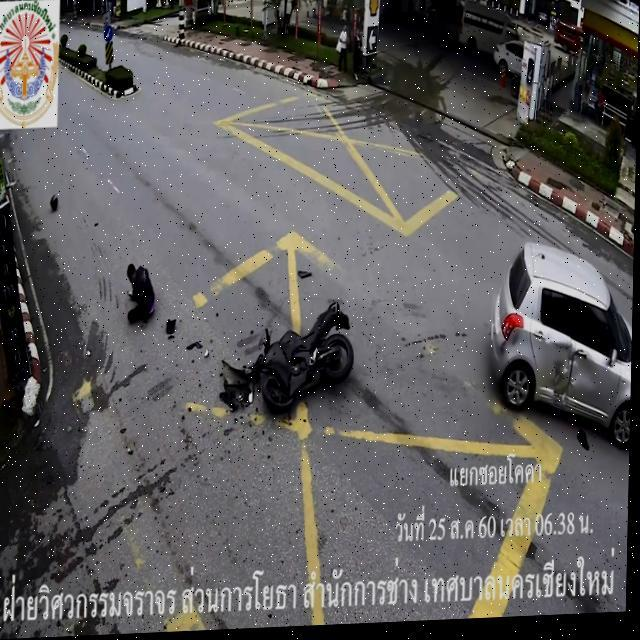multiple_accident: (102, 247, 407, 447), (483, 214, 632, 466)
